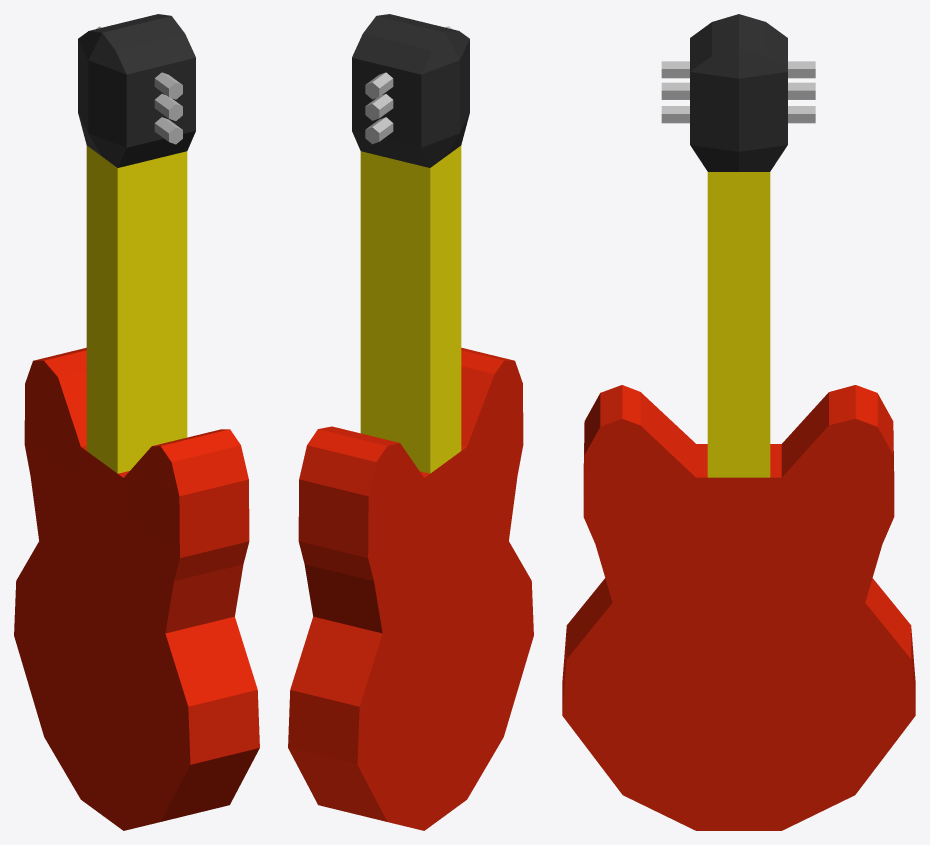
The model's file is Guitar.fbx.
The picture shows the model from 3 angles, left to right: view 1: azimuth 30°, elevation 25°; view 2: azimuth 150°, elevation 25°; view 3: azimuth 270°, elevation 25°; orthographic projection.
Visible parts, largest first — view 1: Cube, Cube.001, Cube.002, Cylinder.005, Cylinder.003, Cylinder.004; view 2: Cube, Cube.001, Cube.002, Cylinder, Cylinder.002, Cylinder.001; view 3: Cube, Cube.001, Cube.002.
Part boxes in pixels (x1,y1,x2,y2): Cube: (14, 347, 259, 830); Cube.001: (86, 145, 187, 473); Cube.002: (78, 14, 195, 167); Cylinder.005: (154, 72, 182, 99); Cylinder.003: (154, 117, 182, 144); Cylinder.004: (154, 94, 182, 120); Cube: (288, 347, 533, 830); Cube.001: (360, 145, 461, 473); Cube.002: (352, 14, 469, 167); Cylinder: (365, 72, 393, 99); Cylinder.002: (365, 117, 393, 144); Cylinder.001: (365, 94, 393, 120); Cube: (562, 385, 915, 830); Cube.001: (707, 172, 770, 477); Cube.002: (690, 14, 787, 171).
Size of the model in its own units: 63.8 by 489 by 200.
